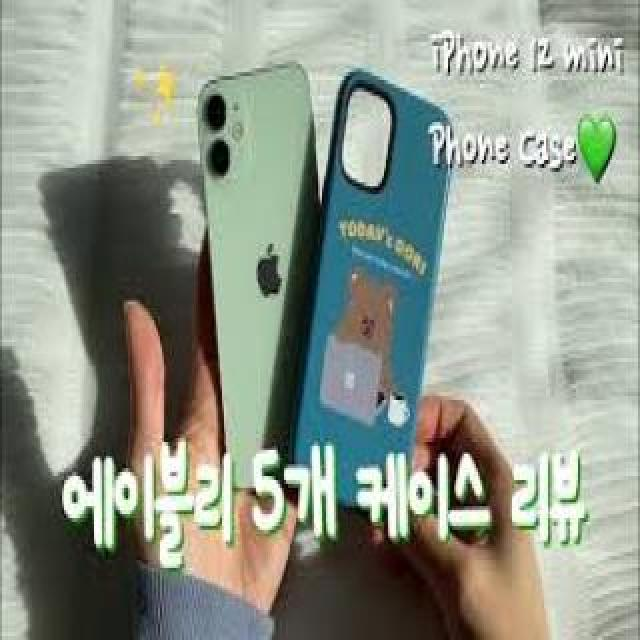smart phone: (180, 53, 344, 495)
